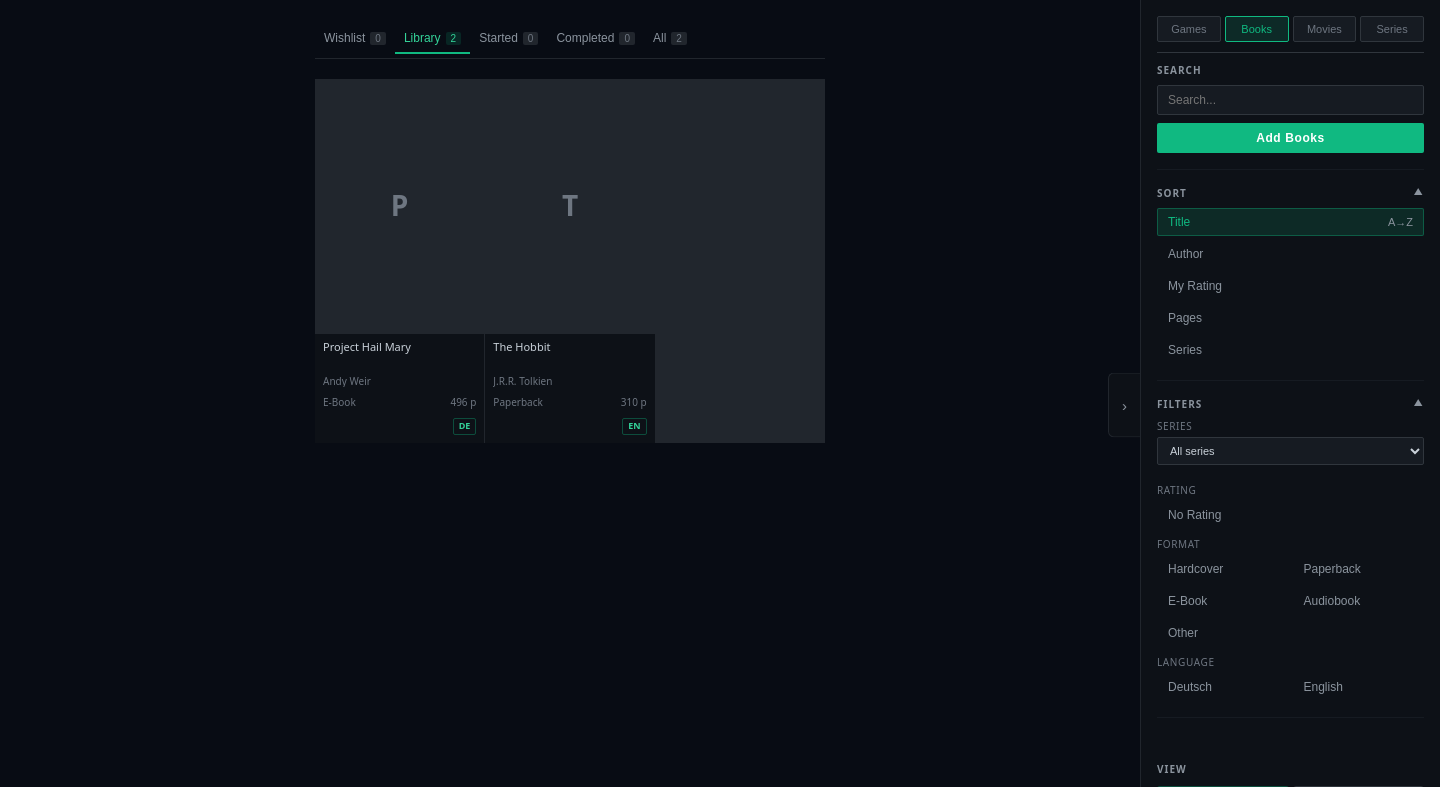
it: BookList – Filters & sort › Format-Filter zeigt nur passende Bücher
Click the button with class "filter-btn" showing "Paperback": (1358, 569) [1292, 555, 1424, 583]
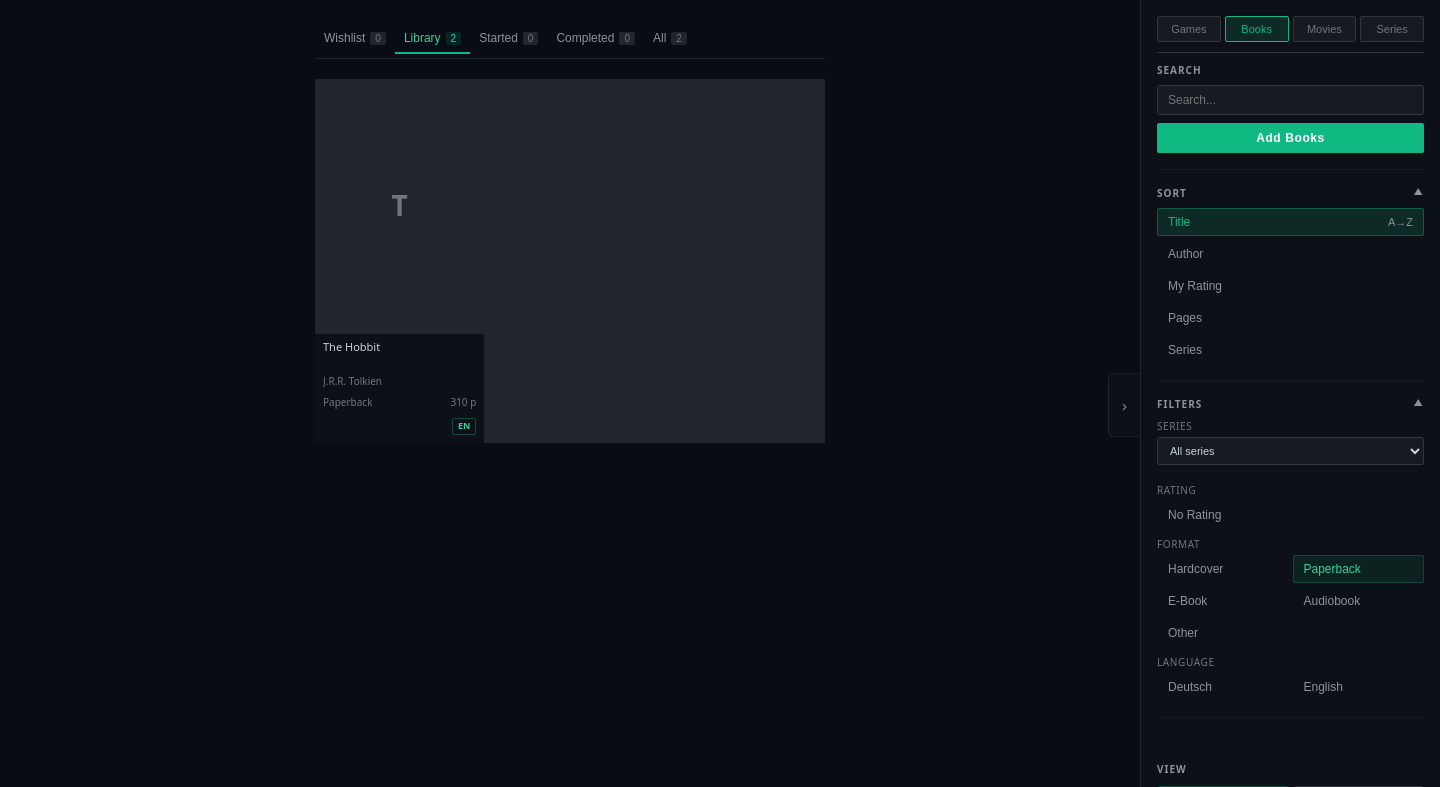
Expected: the text "Hobbit" is shown, [323, 340, 380, 354]
Result: the text "Project Hail Mary" is gone
